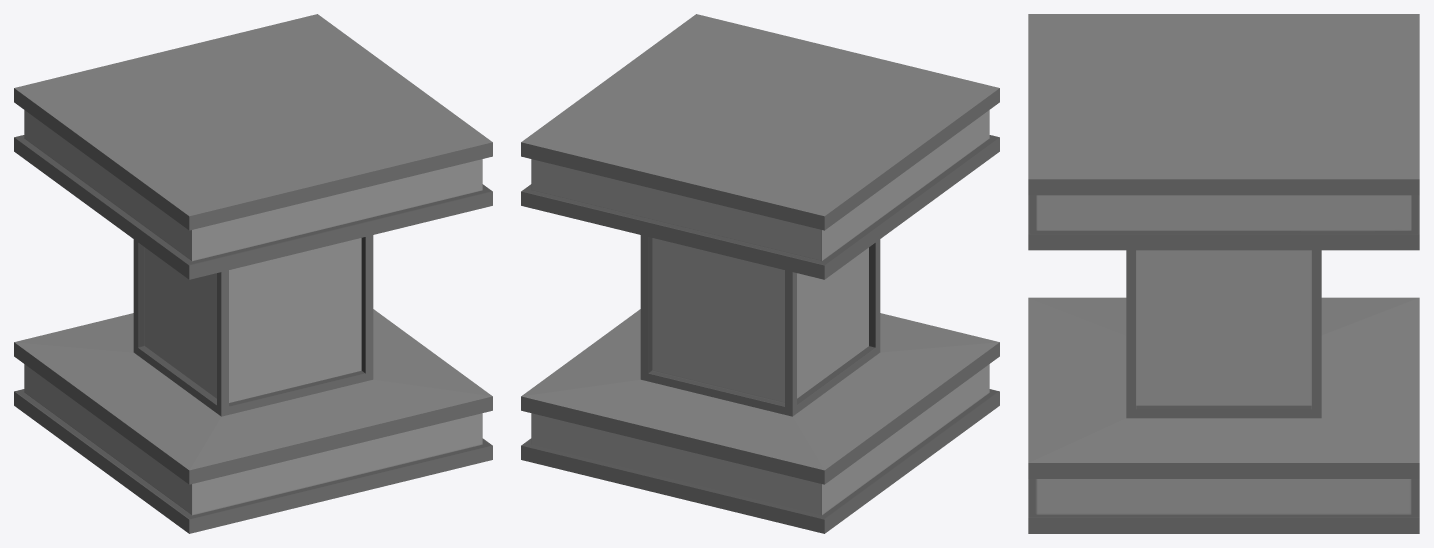
The picture shows the model from 3 angles, left to right: view 1: azimuth 30°, elevation 25°; view 2: azimuth 150°, elevation 25°; view 3: azimuth 270°, elevation 25°; orthographic projection. The views are drawn at different scales.
Visible parts, largest first — view 1: Cube; view 2: Cube; view 3: Cube.
Boxes of the visible parts, x1,y1,x2,y2 form: Cube: [14, 14, 492, 533]; Cube: [521, 14, 999, 533]; Cube: [1028, 14, 1419, 533].
Bounding box in the file's own units: 16 × 16 × 16.
1 material, 1 textured.
